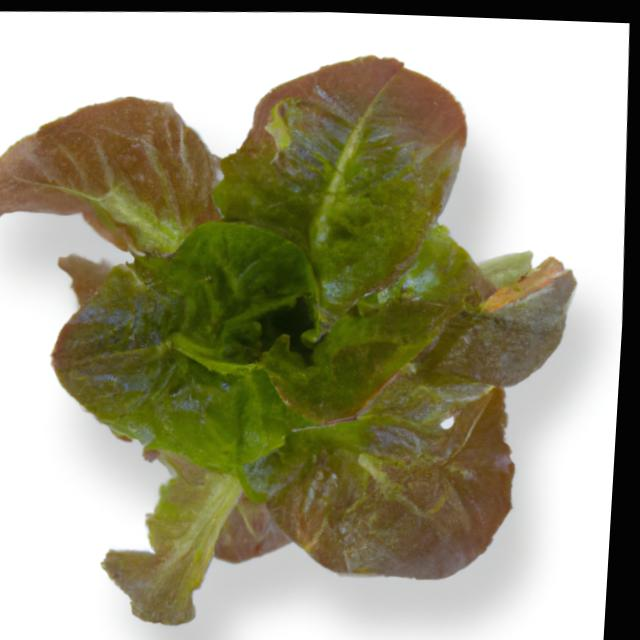-P: (0, 21, 612, 640)
